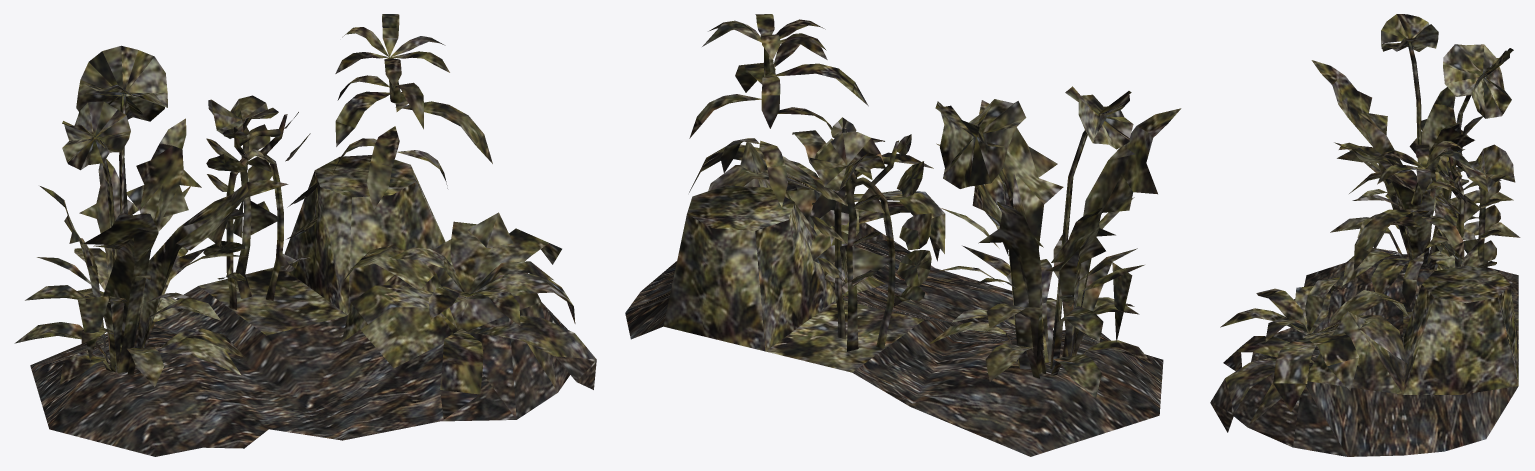
The model's file is overgrowth.glb.
3 renders of one model, left to right at view 1: azimuth 30°, elevation 25°; view 2: azimuth 150°, elevation 25°; view 3: azimuth 270°, elevation 25°, orthographic. The views are drawn at different scales.
Parts seen in each view (by area): view 1: overgrowth; view 2: overgrowth; view 3: overgrowth.
Boxes of the visible parts, <box> form: overgrowth: <box>14,14,596,456</box>; overgrowth: <box>625,14,1181,456</box>; overgrowth: <box>1210,14,1520,456</box>.
Size of the model in its own units: 0.3457 by 0.2056 by 0.2236.
Materials: 2 (2 with a texture image).
